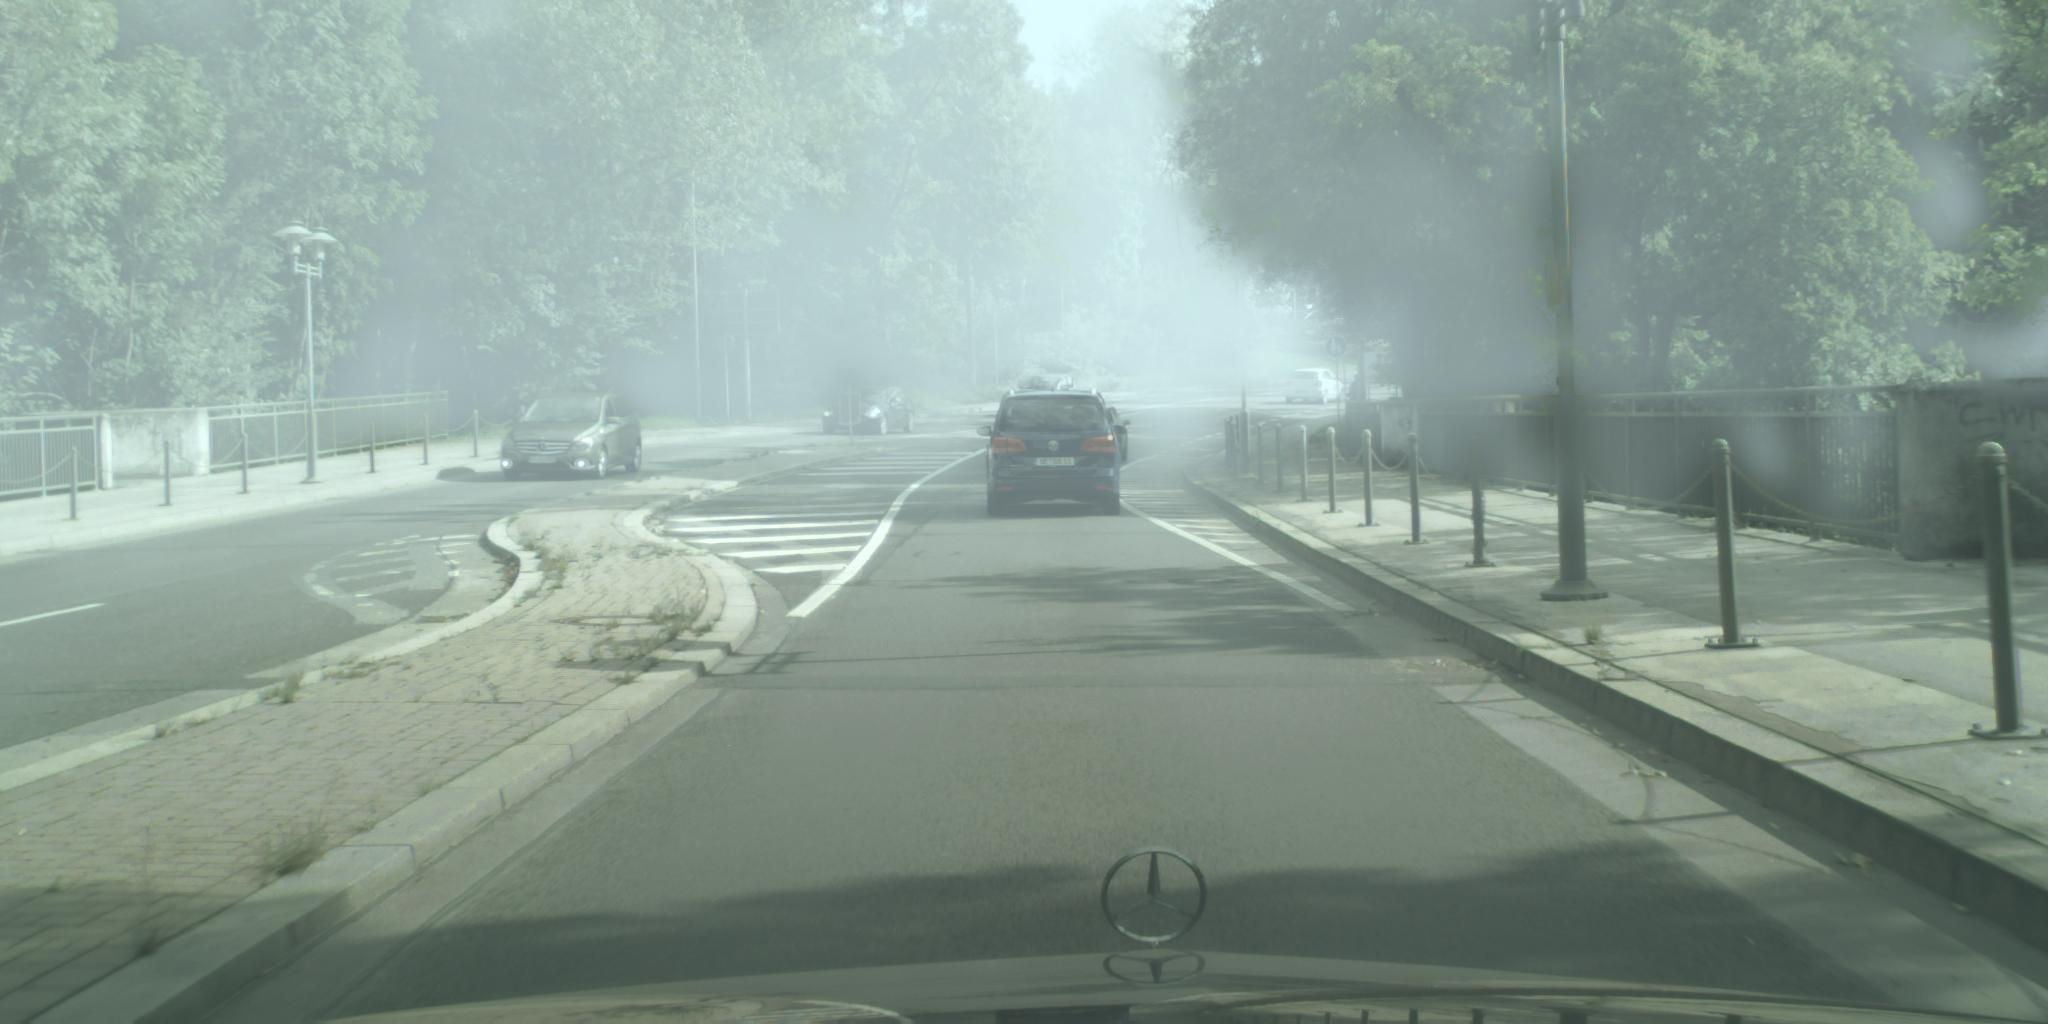car: (977, 389, 1130, 519), (502, 393, 645, 483), (822, 385, 917, 438), (1071, 406, 1132, 464), (1287, 367, 1347, 406), (1010, 374, 1079, 405)
